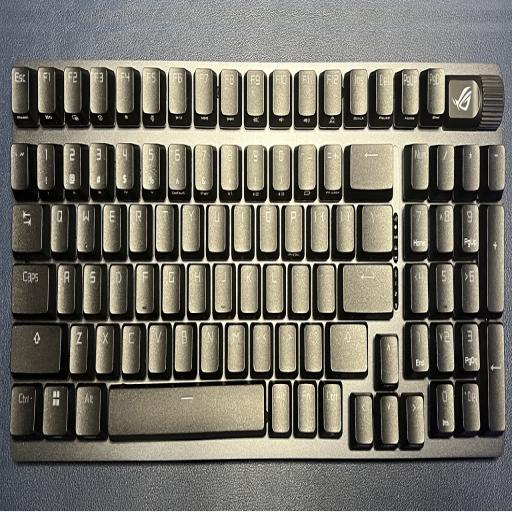KEYBOARD-2: (8, 56, 510, 470)
